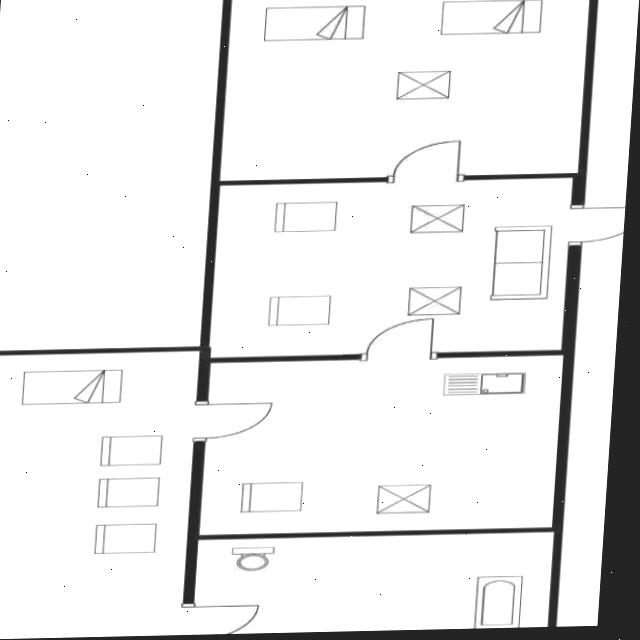room: (194, 355, 566, 535), (219, 0, 588, 181), (205, 178, 576, 358), (0, 351, 199, 639), (189, 532, 555, 635)
